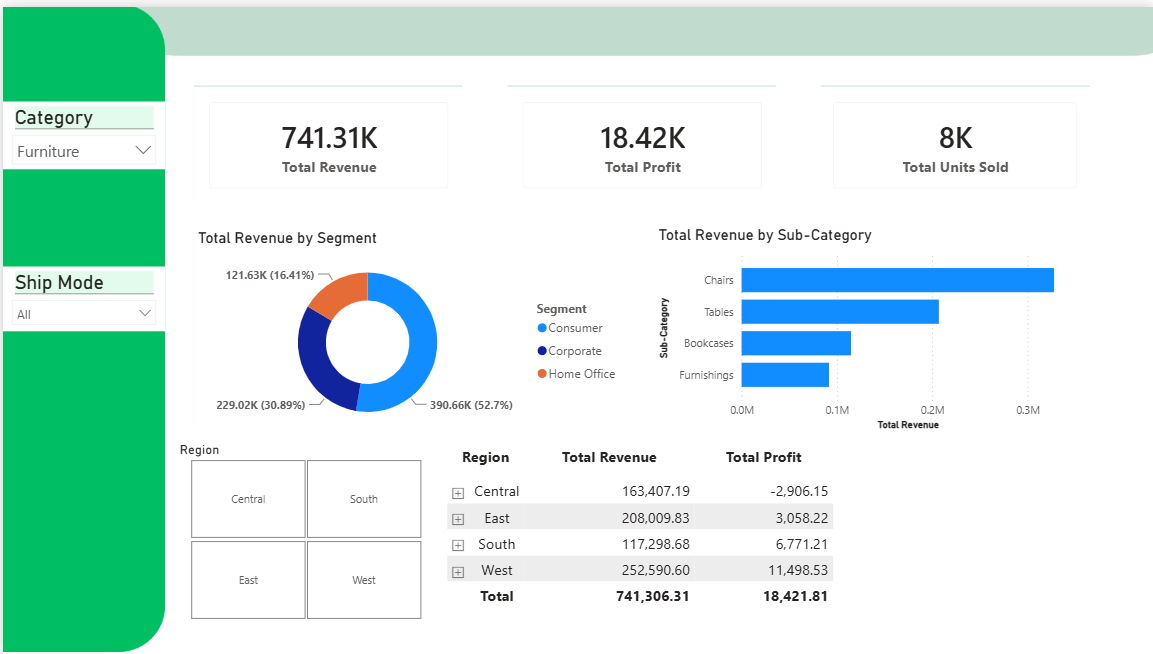

This screenshot's page, from the dashboard's own definition file:
{"tool":"powerbi","page":{"name":"Page 1","canvas":[1280,720],"ordinal":0},"visuals":[{"type":"slicer","fields":{"Values":["superstore_clean.Category"]},"box":[0,105,180,75],"z":0},{"type":"slicer","fields":{"Values":["superstore_clean.Ship Mode"]},"box":[0,288.3,180,71.7],"z":1000},{"type":"slicer","fields":{"Values":["superstore_clean.Region"]},"box":[183.3,478.3,305,208.3],"z":2000},{"type":"cardVisual","fields":{"Data":["Sum(superstore_clean.Sales)"]},"box":[211.7,88.3,300,130],"z":3000},{"type":"cardVisual","fields":{"Data":["Sum(superstore_clean.Profit)"]},"box":[560,88.3,300,130],"z":4000},{"type":"cardVisual","fields":{"Data":["Sum(superstore_clean.Quantity)"]},"box":[905,88.3,305,130],"z":5000},{"type":"donutChart","fields":{"Category":["superstore_clean.Segment"],"Y":["Sum(superstore_clean.Sales)"]},"box":[211.7,246.7,483.3,231.7],"z":6000},{"type":"clusteredBarChart","fields":{"Category":["superstore_clean.Sub-Category"],"Y":["Sum(superstore_clean.Sales)"]},"box":[723.3,243.3,486.7,231.7],"z":7000},{"type":"pivotTable","fields":{"Rows":["superstore_clean.Region","superstore_clean.State"],"Values":["Sum(superstore_clean.Sales)","Sum(superstore_clean.Profit)"]},"box":[488.3,478.3,440,221.7],"z":8000}]}

Visuals, with their boxes in screenshot pixels (x1, y1, x2, y2), scaled from the page's 1280x720 canvas onto the 1153x654 screenshot:
slicer - superstore_clean.Category: crop(0, 95, 162, 164)
slicer - superstore_clean.Ship Mode: crop(0, 262, 162, 327)
slicer - superstore_clean.Region: crop(165, 434, 440, 624)
cardVisual - Sum(superstore_clean.Sales): crop(191, 80, 461, 198)
cardVisual - Sum(superstore_clean.Profit): crop(504, 80, 775, 198)
cardVisual - Sum(superstore_clean.Quantity): crop(815, 80, 1090, 198)
donutChart - superstore_clean.Segment x Sum(superstore_clean.Sales): crop(191, 224, 626, 435)
clusteredBarChart - superstore_clean.Sub-Category x Sum(superstore_clean.Sales): crop(652, 221, 1090, 431)
pivotTable - superstore_clean.Region x superstore_clean.State: crop(440, 434, 836, 636)
